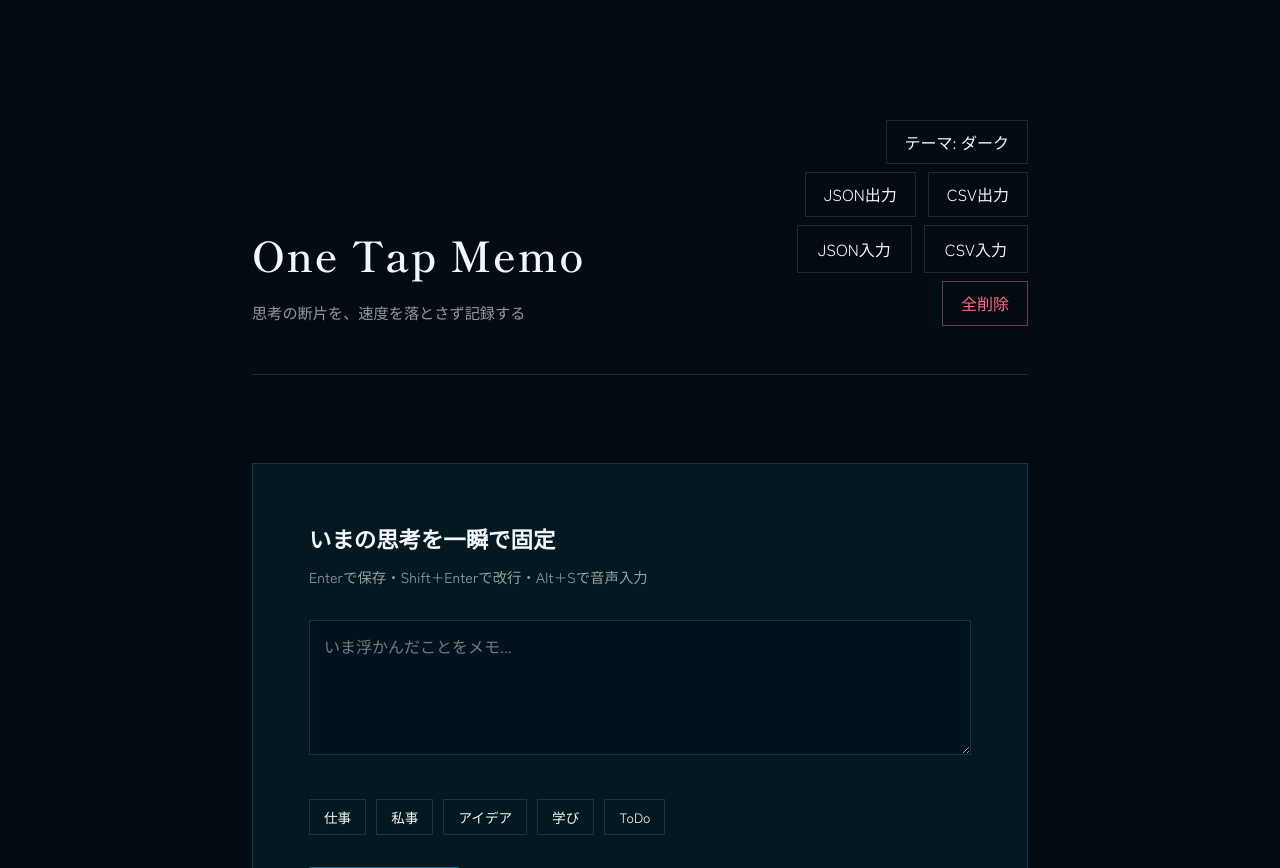
Test: One Tap Memo › Enter保存でタグが自動抽出される
Type "これはテスト #集中" into the text box named "メモ入力" at point(640, 688), box [309,620,971,755]
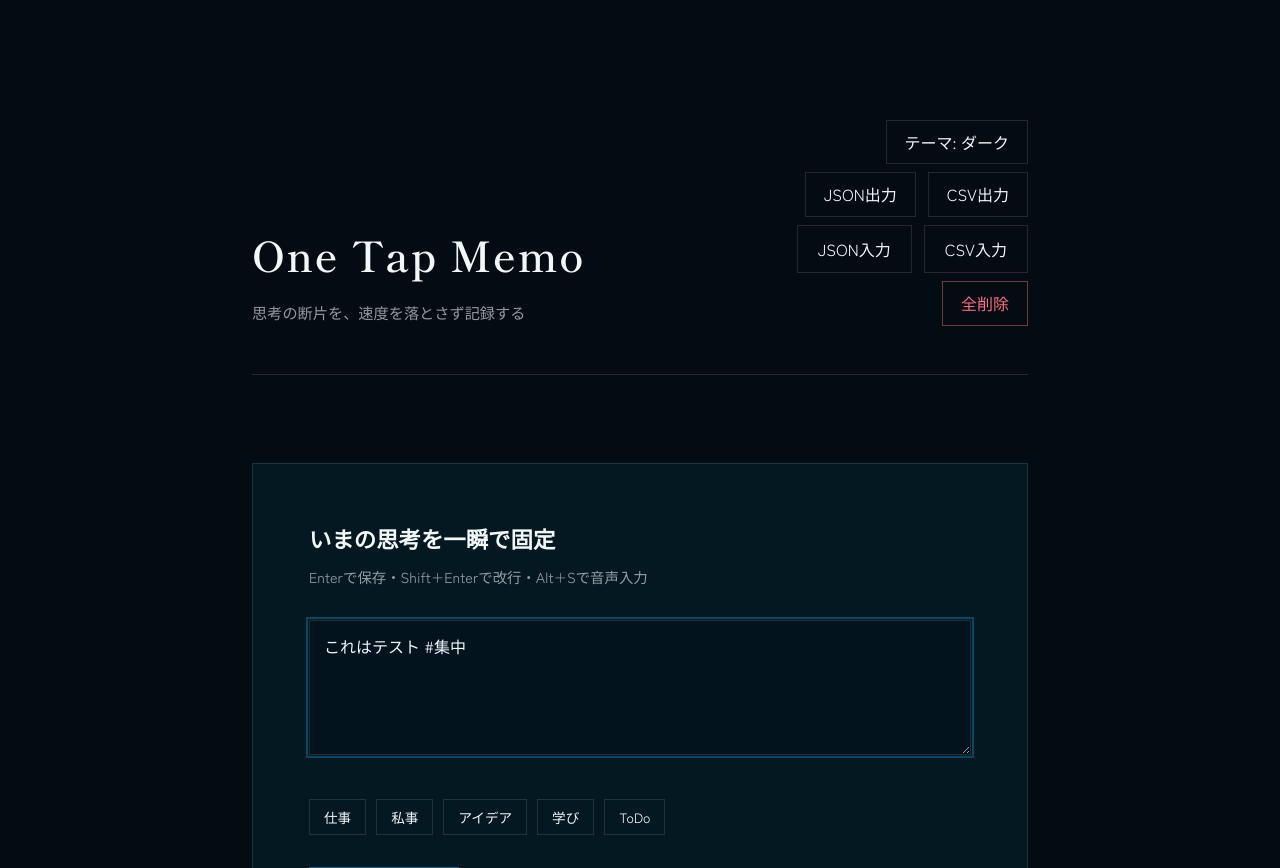
Press Enter in the text box named "メモ入力", box [309,620,971,755]
(page scrolled)
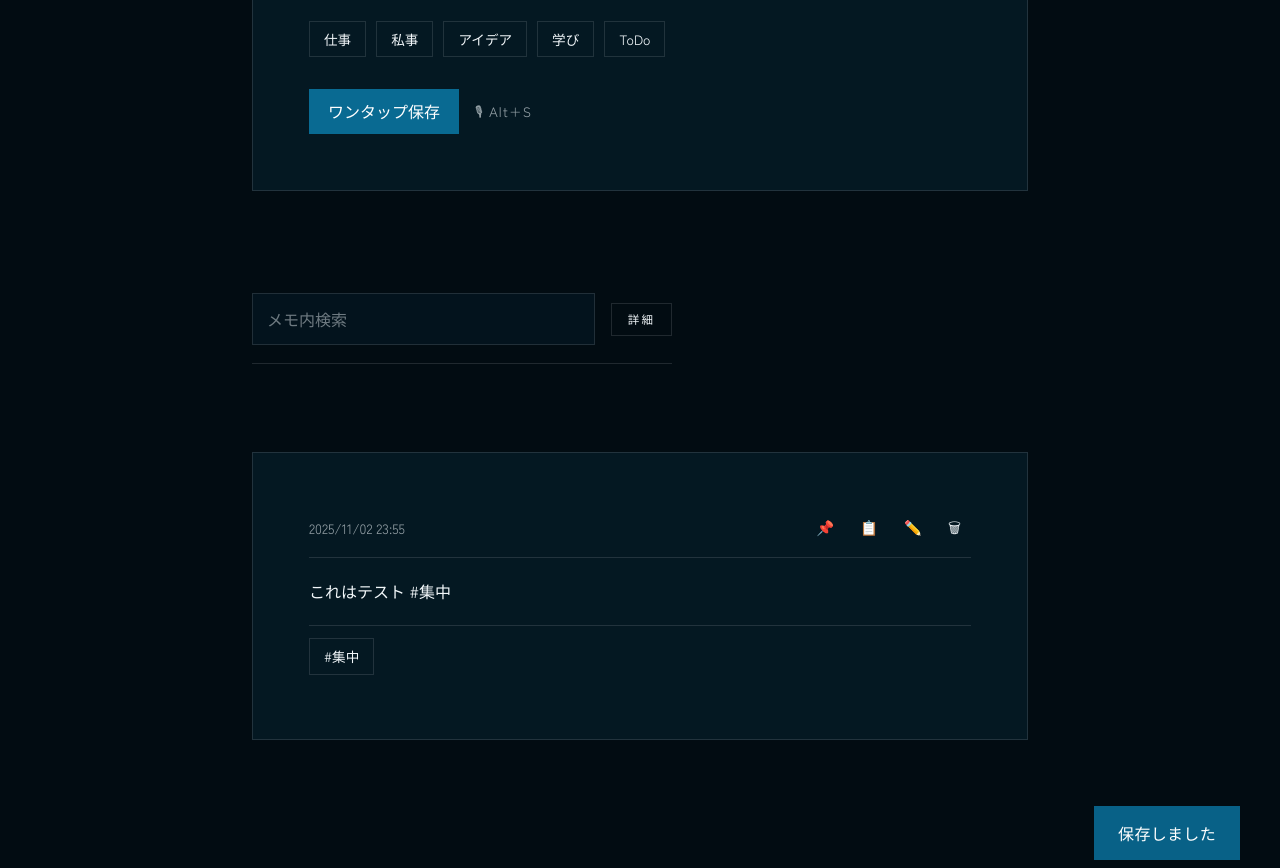
Check: the text "これはテスト #集中" is shown, box [309,579,451,603]
Check: the text "#集中" is shown, box [309,638,374,675]
